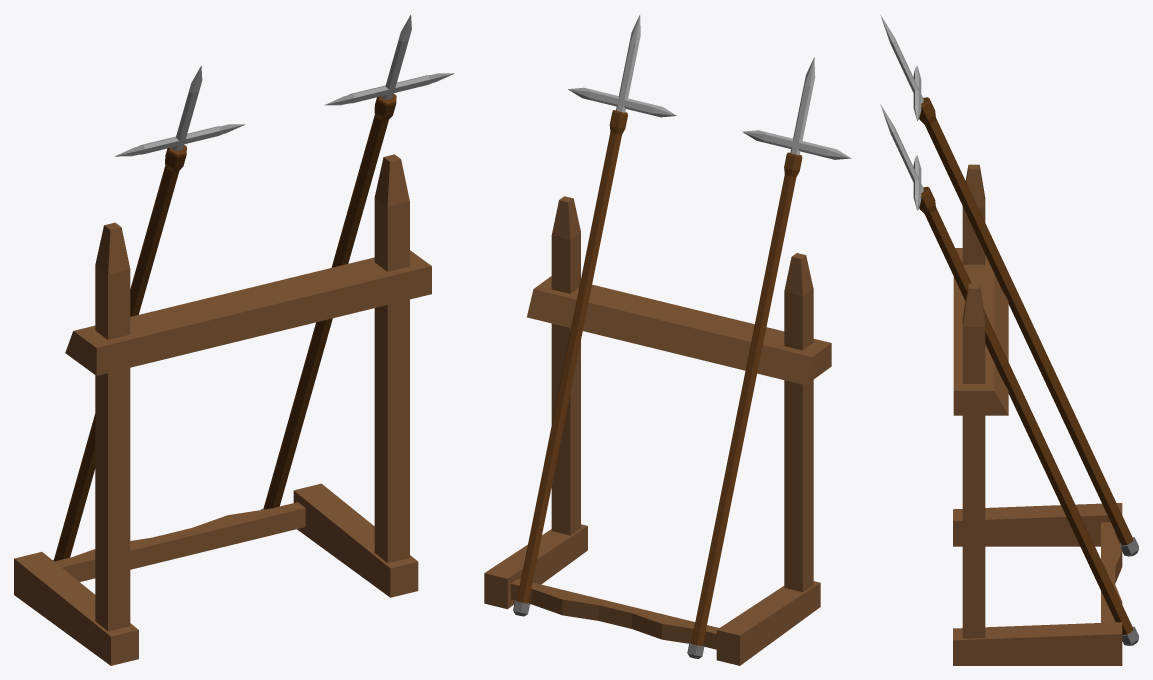
Rendered from PolearmRack.fbx.
3 renders of one model, left to right at view 1: azimuth 30°, elevation 25°; view 2: azimuth 150°, elevation 25°; view 3: azimuth 270°, elevation 25°, orthographic. The views are drawn at different scales.
Parts seen in each view (by area): view 1: Cube.006, Cube.008, Cube.007; view 2: Cube.006, Cube.007, Cube.008; view 3: Cube.006, Cube.007, Cube.008.
Part boxes in pixels (left/top/right/bottom): Cube.006: left=14, top=154, right=431, bottom=665; Cube.008: left=261, top=14, right=454, bottom=509; Cube.007: left=53, top=65, right=245, bottom=561; Cube.006: left=484, top=196, right=831, bottom=665; Cube.007: left=687, top=57, right=851, bottom=658; Cube.008: left=513, top=15, right=676, bottom=616; Cube.006: left=953, top=164, right=1122, bottom=665; Cube.007: left=880, top=15, right=1138, bottom=556; Cube.008: left=880, top=104, right=1138, bottom=645.
Bounding box in the file's own units: 3.08 × 2.31 × 5.34.
